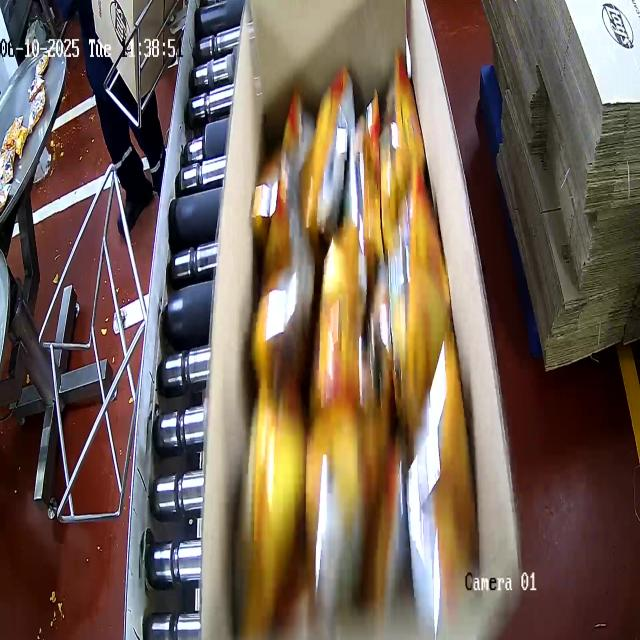FRENCH_CHEESE: (235, 57, 467, 635)
